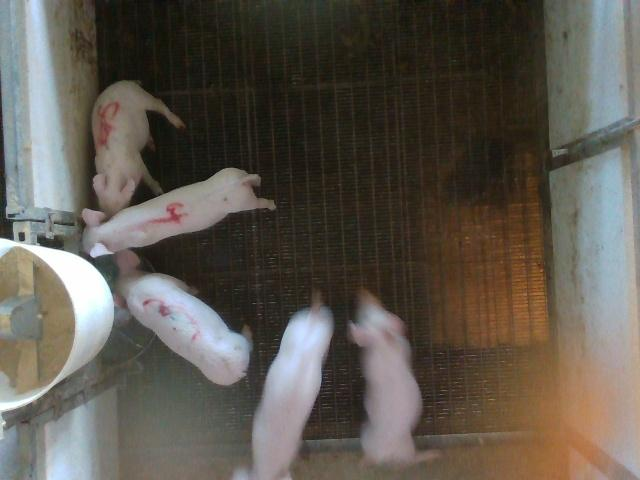pig-3: (116, 249, 252, 385)
pig-4: (82, 168, 275, 257)
pig-5: (91, 80, 184, 217)
